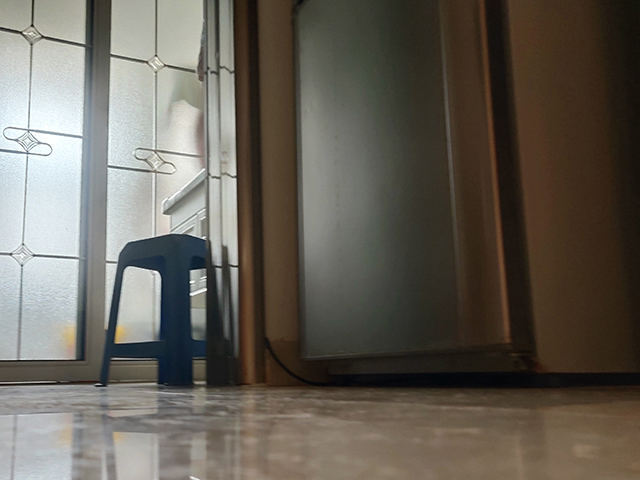stool: (92, 232, 209, 389)
wire: (262, 334, 334, 387)
